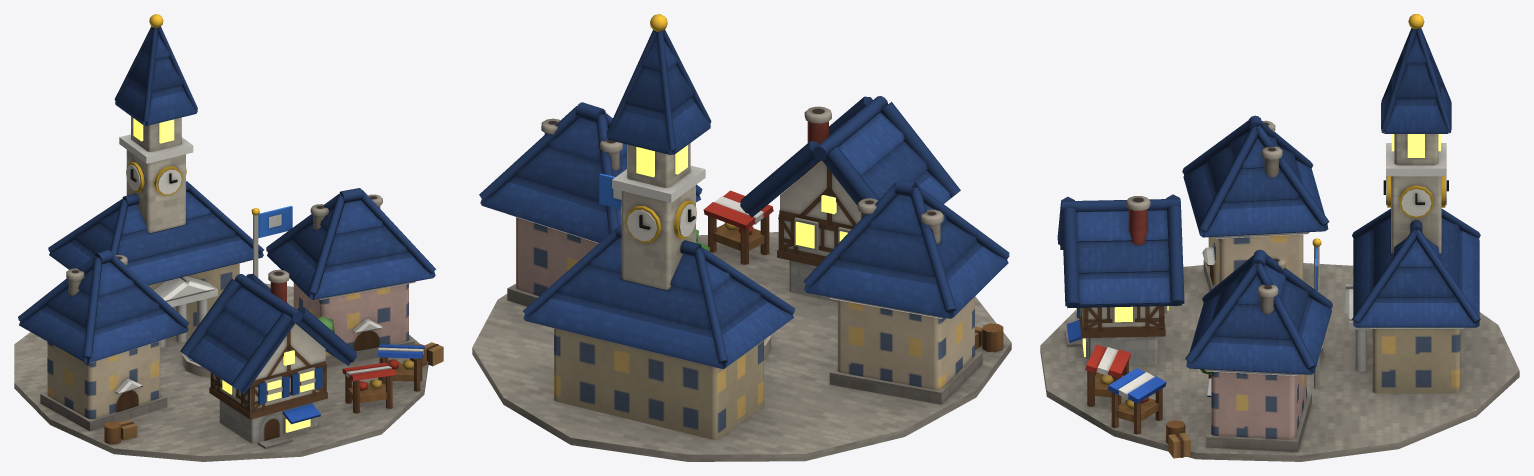
The model's file is city_dl4_blue.glb.
The picture shows the model from 3 angles, left to right: view 1: azimuth 30°, elevation 25°; view 2: azimuth 150°, elevation 25°; view 3: azimuth 270°, elevation 25°; orthographic projection. The views are drawn at different scales.
Visible parts, largest first — view 1: city_dl4_blue; view 2: city_dl4_blue; view 3: city_dl4_blue.
Part boxes in pixels (<box>): city_dl4_blue: <box>14,14,443,461</box>; city_dl4_blue: <box>472,14,1011,461</box>; city_dl4_blue: <box>1040,14,1519,461</box>.
Size of the model in its own units: 1.51 by 1.2 by 1.49.
Materials: 2 (1 with a texture image).
